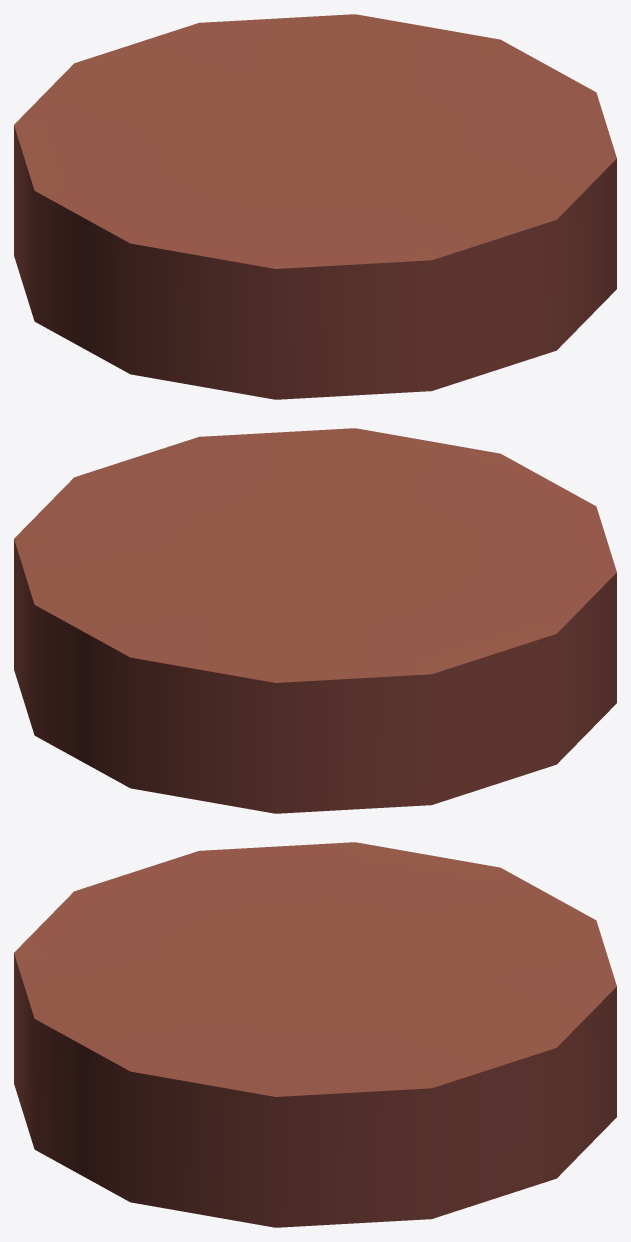
The model's file is human-toys-foam-block_v1.glb.
The picture shows the model from 3 angles, top to bottom: view 1: azimuth 30°, elevation 25°; view 2: azimuth 150°, elevation 25°; view 3: azimuth 270°, elevation 25°; orthographic projection.
Parts seen in each view (by area): view 1: Foam Block_v1; view 2: Foam Block_v1; view 3: Foam Block_v1.
Boxes of the visible parts, box(x1,y1,x2,y2) form: Foam Block_v1: box(14, 14, 616, 399); Foam Block_v1: box(14, 428, 616, 813); Foam Block_v1: box(14, 842, 616, 1227).
Size of the model in its own units: 0.3 by 0.0718 by 0.3.
